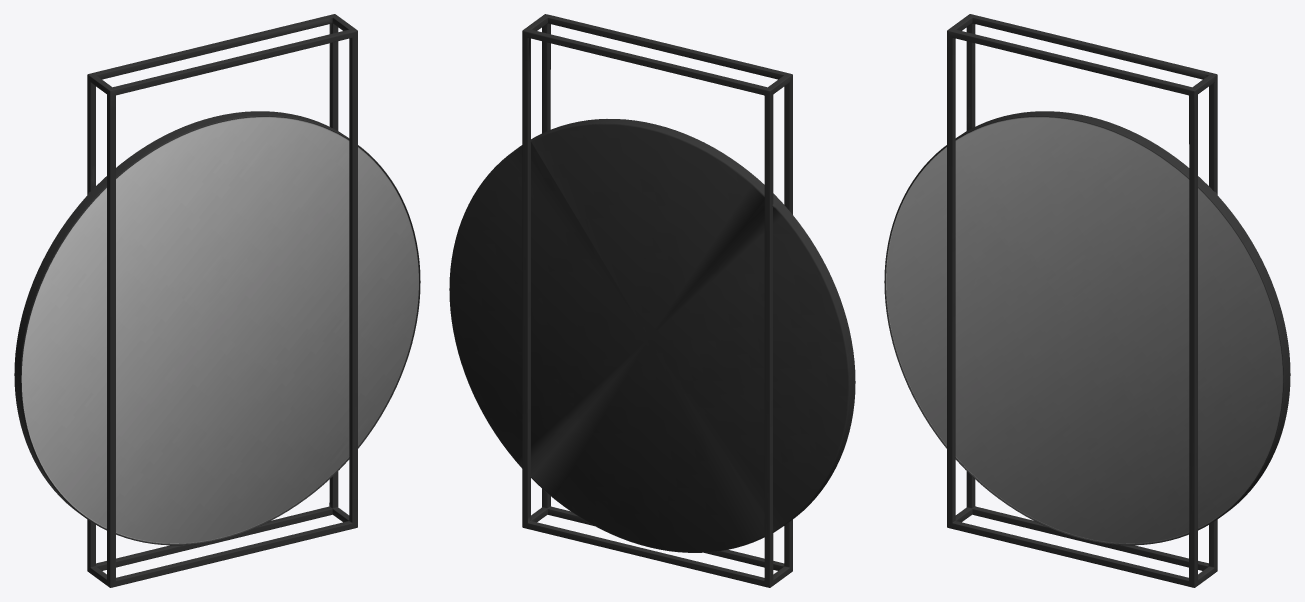
The model's file is B084HV6KDL.glb.
The picture shows the model from 3 angles, left to right: view 1: azimuth 30°, elevation 25°; view 2: azimuth 150°, elevation 25°; view 3: azimuth 330°, elevation 25°; orthographic projection.
Parts seen in each view (by area): view 1: RootNode; view 2: RootNode; view 3: RootNode.
Part boxes in pixels (box(x1,y1,x2,y2)): RootNode: box(14, 14, 420, 587); RootNode: box(449, 14, 855, 587); RootNode: box(884, 14, 1290, 587).
Bounding box in the file's own units: 0.508 × 0.6032 × 0.0507.
Materials: 1 (1 with a texture image).
